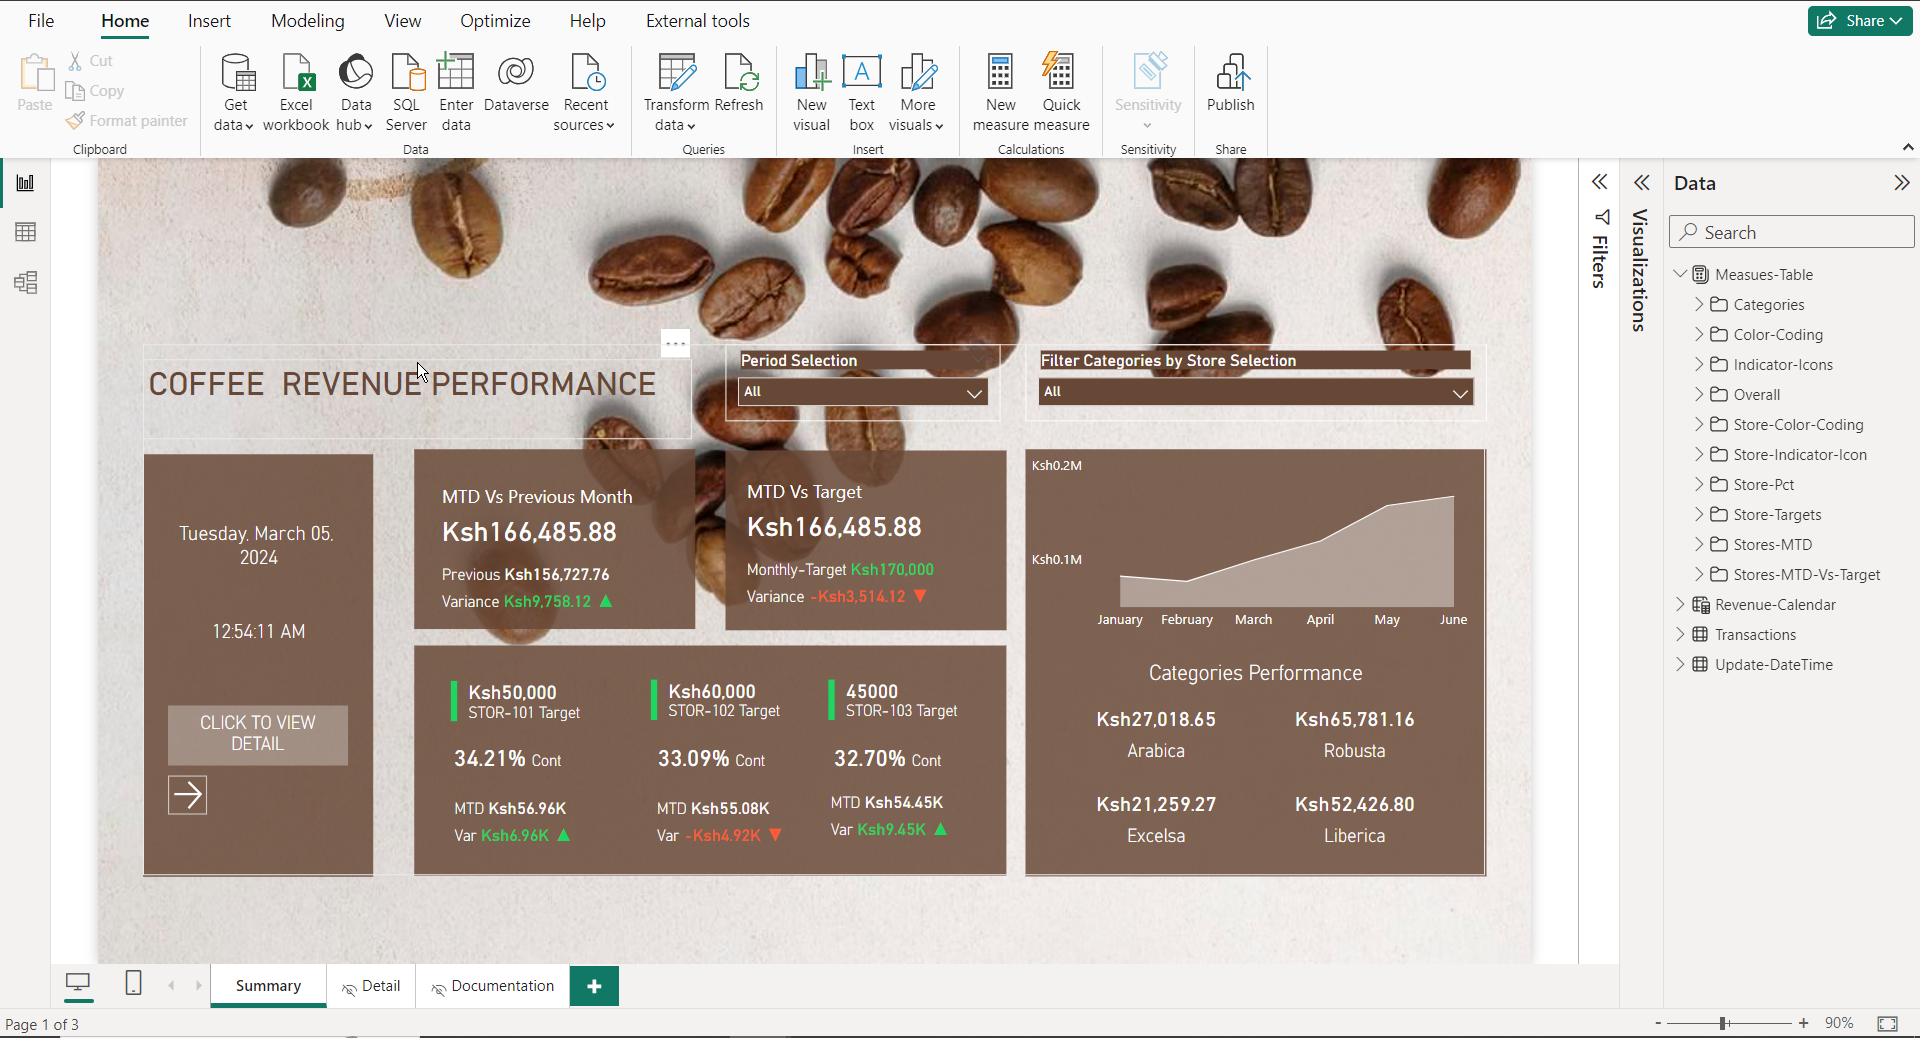

What the dashboard file says about the page in this screenshot:
{"tool":"powerbi","page":{"name":"Summary","canvas":[1280,720],"ordinal":0},"visuals":[{"type":"textbox","box":[40.6,179.9,489.5,70.9],"z":0,"group":"g1"},{"type":"shape","box":[40.8,264.2,205.8,377.4],"z":1000,"group":"g2"},{"type":"shape","box":[282.5,435.7,529.1,205.8],"z":1000,"group":"g1"},{"type":"shape","box":[283,260.5,251,160.5],"z":2000,"group":"g1"},{"type":"shape","box":[828.7,259.5,411.7,381.5],"z":3000,"group":"g1"},{"type":"textbox","box":[57.8,508.3,166.3,33.5],"z":3000,"group":"g2"},{"type":"multiRowCard","fields":{"Values":["Measues-Table.Store2-Target"]},"box":[489.7,461.3,148.6,49.9],"z":4000,"group":"g1"},{"type":"actionButton","box":[62.7,550.8,34.9,34.9],"z":4000,"group":"g2"},{"type":"multiRowCard","fields":{"Values":["Measues-Table.Store3-Target"]},"box":[647.8,461.3,153.3,49.9],"z":5000,"group":"g1"},{"type":"cardVisual","fields":{"Data":["Measues-Table.MTD-Revenue"]},"box":[290.6,272.9,243,145.3],"z":6000,"group":"g1"},{"type":"multiRowCard","title":"sfdf","fields":{"Values":["Measues-Table.Store-Target"]},"box":[310.9,461.9,153.5,48.8],"z":7000,"group":"g1"},{"type":"shape","box":[560.8,260.6,251,160.5],"z":8000,"group":"g1"},{"type":"card","fields":{"Values":["Measues-Table.Coffee"]},"box":[1034.6,474.5,178,74.1],"z":9000,"group":"g1"},{"type":"cardVisual","fields":{"Data":["Measues-Table.MTD-Revenue"]},"box":[563.6,268.4,242.9,145.5],"z":10000,"group":"g1"},{"type":"areaChart","fields":{"Y":["Measues-Table.MTD-Revenue"],"Category":["Revenue-Calendar.Date.Variation.Date Hierarchy.Month"]},"box":[828.7,259.5,411.7,170.2],"z":11000,"group":"g1"},{"type":"card","fields":{"Values":["Measues-Table.Coffee-Beans"]},"box":[856.2,474.5,178.4,74.1],"z":12000,"group":"g1"},{"type":"card","fields":{"Values":["Measues-Table.Bakery"]},"box":[856.2,550.4,178.4,74.1],"z":13000,"group":"g1"},{"type":"card","fields":{"Values":["Measues-Table.Branded"]},"box":[1034.6,550.4,178,74.1],"z":14000,"group":"g1"},{"type":"slicer","fields":{"Values":["Revenue-Calendar.Date.Variation.Date Hierarchy.Year"]},"box":[561.1,166.2,245.6,68.6],"z":15000,"group":"g1"},{"type":"slicer","fields":{"Values":["Transactions.store_location"]},"box":[828.7,166.2,411.7,68.6],"z":16000,"group":"g1"},{"type":"cardVisual","fields":{"Data":["Measues-Table.MTD-Store3"]},"box":[638.3,525.5,172.4,89.2],"z":17000,"group":"g1"},{"type":"card","fields":{"Values":["Min(Query1.Date)"]},"box":[53.4,300.8,182.6,88.4],"z":18000,"group":"g2"},{"type":"cardVisual","fields":{"Data":["Measues-Table.MTD-Store1"]},"box":[301.9,530.8,153,84],"z":18000,"group":"g1"},{"type":"card","fields":{"Values":["Min(Query1.Time)"]},"box":[41.1,377.8,207.2,89.2],"z":19000,"group":"g2"},{"type":"cardVisual","fields":{"Data":["Measues-Table.MTD-Store2"]},"box":[482.9,530.8,163,84],"z":19000,"group":"g1"},{"type":"textbox","box":[900.1,440.8,269,38.4],"z":20000,"group":"g1"},{"type":"group","id":"g1","title":"Group 2","box":[40.6,166.2,1199.8,475.4],"z":20001},{"type":"cardVisual","fields":{"Data":["Measues-Table.Store3-Pct"]},"box":[647.2,492.9,135,69],"z":21000,"group":"g1"},{"type":"cardVisual","fields":{"Data":["Measues-Table.STOR-102-Pct"]},"box":[489.9,493.8,135,69],"z":22000,"group":"g1"},{"type":"cardVisual","fields":{"Data":["Measues-Table.STOR-101-Pct"]},"box":[306.9,492.8,123,69],"z":23000,"group":"g1"},{"type":"group","id":"g2","title":"Group 1","box":[40.8,264.2,207.5,377.4],"z":24000,"group":"g1"}]}

Visuals, with their boxes on the page's 1280x720 design canvas (x1, y1, x2, y2). These are canvas units, not pixel positions in the 1920x1038 screenshot, which may show the page scaled, cropped or inside an application window:
textbox: [41,180,530,251]
shape: [41,264,247,642]
shape: [282,436,812,642]
shape: [283,260,534,421]
shape: [829,260,1240,641]
textbox: [58,508,224,542]
multiRowCard - Measues-Table.Store2-Target: [490,461,638,511]
actionButton: [63,551,98,586]
multiRowCard - Measues-Table.Store3-Target: [648,461,801,511]
cardVisual - Measues-Table.MTD-Revenue: [291,273,534,418]
"sfdf" multiRowCard: [311,462,464,511]
shape: [561,261,812,421]
card - Measues-Table.Coffee: [1035,474,1213,549]
cardVisual - Measues-Table.MTD-Revenue: [564,268,806,414]
areaChart - Measues-Table.MTD-Revenue x Revenue-Calendar.Date.Variation.Date Hierarchy.Month: [829,260,1240,430]
card - Measues-Table.Coffee-Beans: [856,474,1035,549]
card - Measues-Table.Bakery: [856,550,1035,624]
card - Measues-Table.Branded: [1035,550,1213,624]
slicer - Revenue-Calendar.Date.Variation.Date Hierarchy.Year: [561,166,807,235]
slicer - Transactions.store_location: [829,166,1240,235]
cardVisual - Measues-Table.MTD-Store3: [638,526,811,615]
card - Min(Query1.Date): [53,301,236,389]
cardVisual - Measues-Table.MTD-Store1: [302,531,455,615]
card - Min(Query1.Time): [41,378,248,467]
cardVisual - Measues-Table.MTD-Store2: [483,531,646,615]
textbox: [900,441,1169,479]
"Group 2" group: [41,166,1240,642]
cardVisual - Measues-Table.Store3-Pct: [647,493,782,562]
cardVisual - Measues-Table.STOR-102-Pct: [490,494,625,563]
cardVisual - Measues-Table.STOR-101-Pct: [307,493,430,562]
"Group 1" group: [41,264,248,642]
